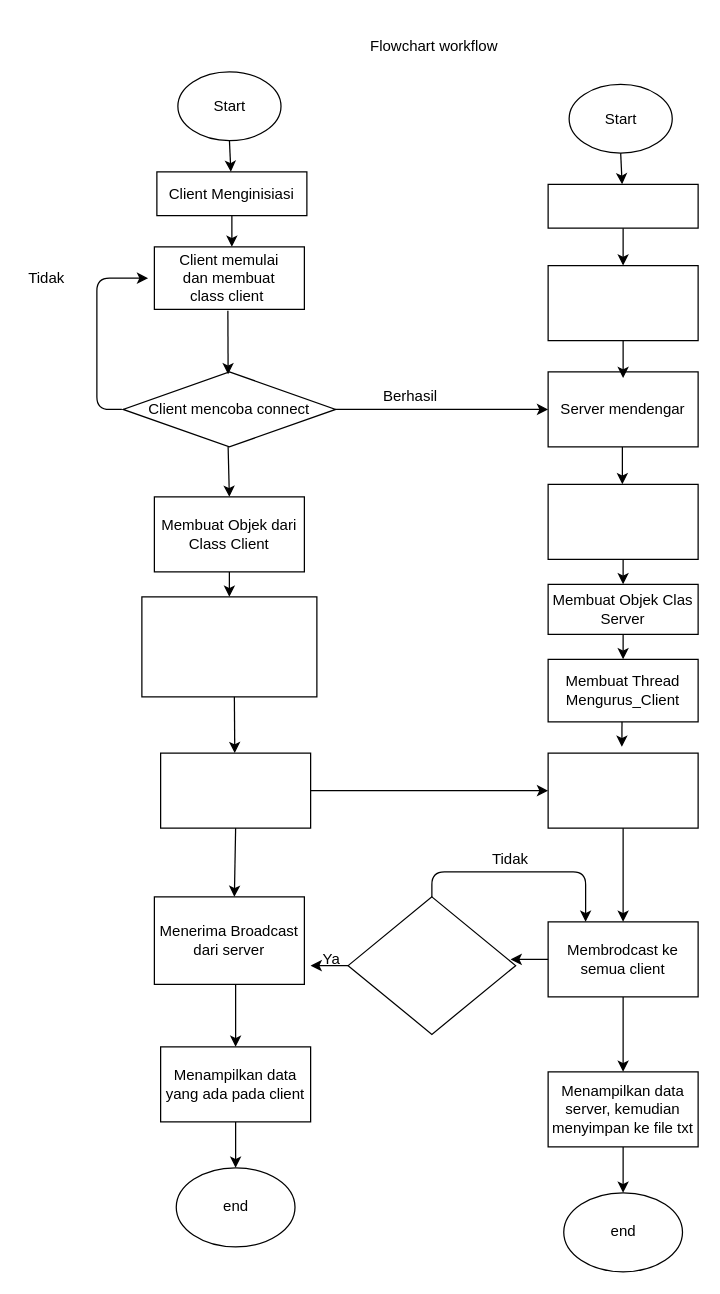
Image size: 720x1294. Some labels were removed from this diagram. Each missing label, with the centre of its shape:
Berisi sesuai dengan inputan client?: (431,965)
Membuat Thread Client_Send, Thread Client_Menerima: (235,790)
Menerima data yang dikirim dan direquest dari client: (622,790)
Menerima koneksi dari client: (622,521)
Menginput nama, dan mengirim data: (229,646)
Server memulai: (622,302)
Server Menginisiasi: (622,205)
